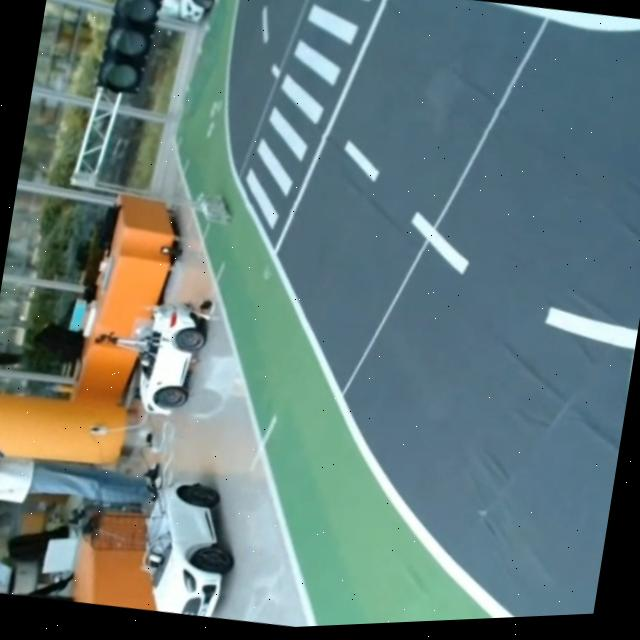traffic-light: (87, 0, 165, 105)
